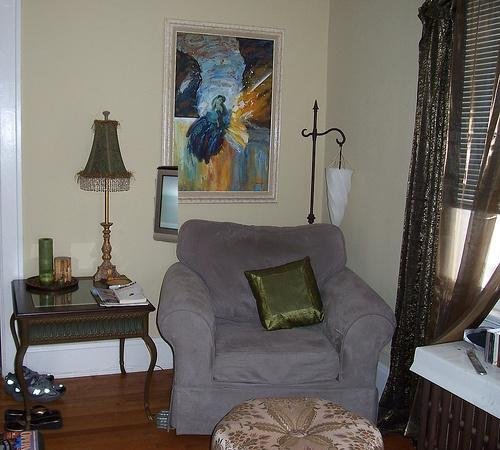tampered: (154, 167, 178, 244)
